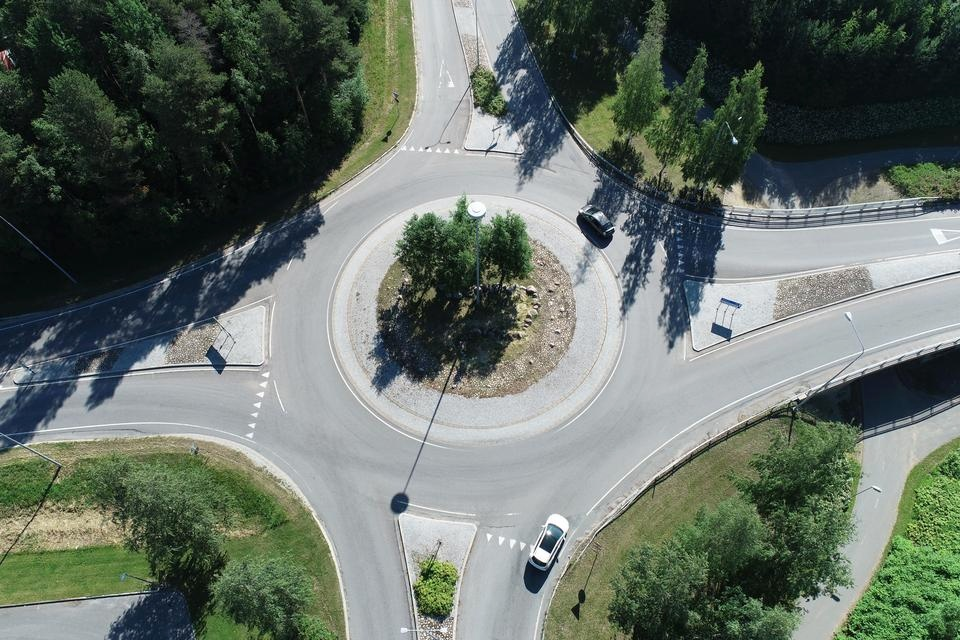roundabout: (185, 89, 776, 593)
